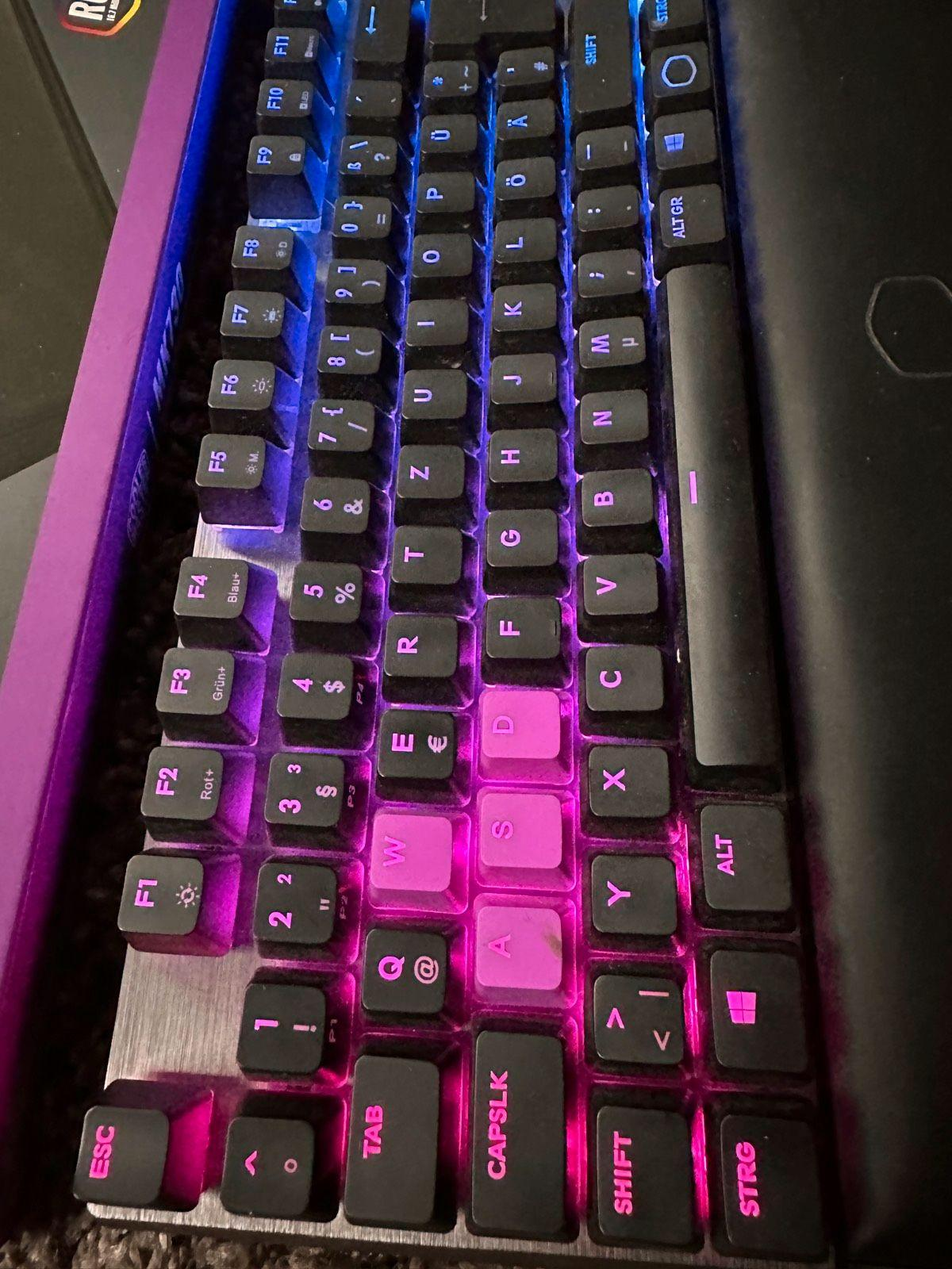0: (329, 193, 395, 247)
1: (236, 977, 326, 1072)
2: (252, 856, 339, 945)
3: (262, 748, 346, 829)
4: (275, 649, 354, 719)
5: (287, 559, 365, 623)
6: (298, 477, 373, 539)
7: (301, 397, 375, 455)
8: (315, 325, 385, 378)
9: (321, 258, 388, 308)
a: (472, 898, 564, 991)
accent: (342, 78, 404, 121)
ae: (490, 95, 562, 148)
alt-left: (695, 798, 791, 914)
altgr-right: (658, 184, 729, 251)
b: (578, 466, 653, 526)
c: (580, 642, 664, 710)
caret: (218, 1114, 319, 1216)
comma: (575, 247, 647, 303)
d: (476, 685, 561, 762)
del: (348, 1, 410, 64)
e: (379, 710, 456, 777)
enter: (423, 2, 560, 47)
f: (482, 592, 562, 659)
g: (482, 506, 559, 566)
h: (486, 424, 558, 481)
hash: (493, 44, 565, 94)
i: (401, 294, 476, 356)
j: (489, 351, 562, 408)
k: (489, 281, 561, 338)
keyboard: (71, 342, 835, 1263)
l: (489, 214, 561, 271)
less: (586, 969, 689, 1069)
m: (575, 312, 647, 368)
minus: (574, 122, 646, 178)
n: (576, 385, 650, 443)
o: (405, 228, 479, 284)
oe: (489, 155, 562, 208)
p: (409, 167, 483, 223)
plus: (416, 56, 485, 106)
point: (575, 182, 647, 238)
q: (359, 922, 453, 1021)
r: (381, 610, 458, 677)
s: (475, 785, 563, 868)
shift-left: (589, 1103, 694, 1249)
shift-lock: (470, 1026, 572, 1239)
shift-right: (567, 2, 633, 116)
space: (663, 261, 787, 773)
ss: (336, 131, 402, 186)
strg-left: (713, 1110, 827, 1259)
strg-right: (643, 2, 714, 35)
t: (389, 522, 463, 584)
tab: (340, 1043, 443, 1229)
u: (398, 366, 473, 427)
ue: (414, 112, 482, 164)
v: (579, 551, 660, 615)
w: (368, 812, 456, 895)
x: (583, 741, 671, 819)
y: (587, 849, 678, 935)
z: (394, 443, 469, 504)
